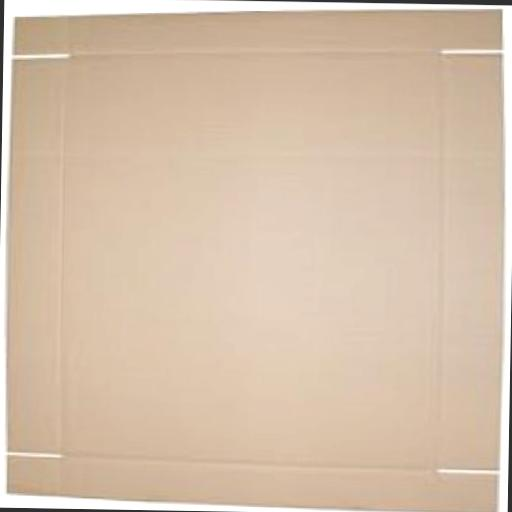cardboard: (1, 1, 500, 512)
